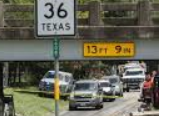1: (85, 44, 91, 55)
3: (91, 44, 98, 55)
9: (113, 44, 122, 55)
overheadsign: (82, 41, 135, 58)
